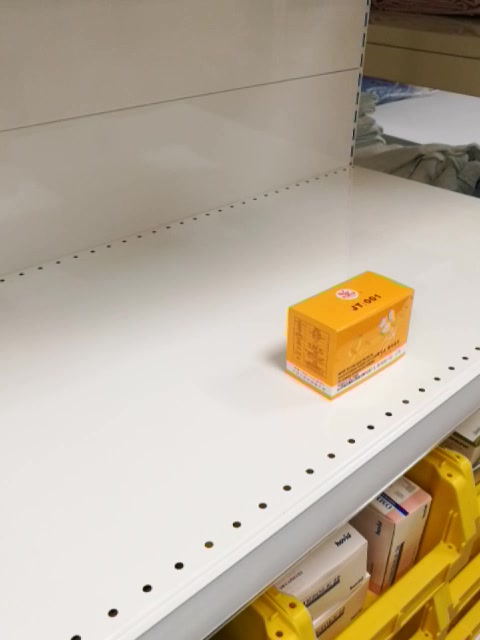jasminetea: (283, 270, 419, 403)
